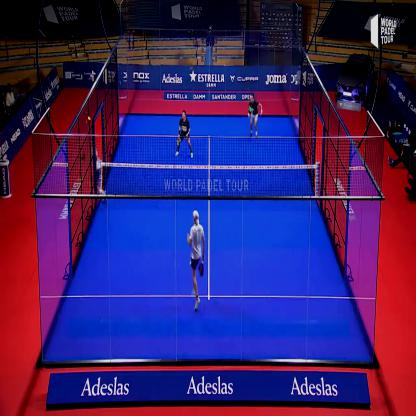ball: (86, 112, 92, 124)
